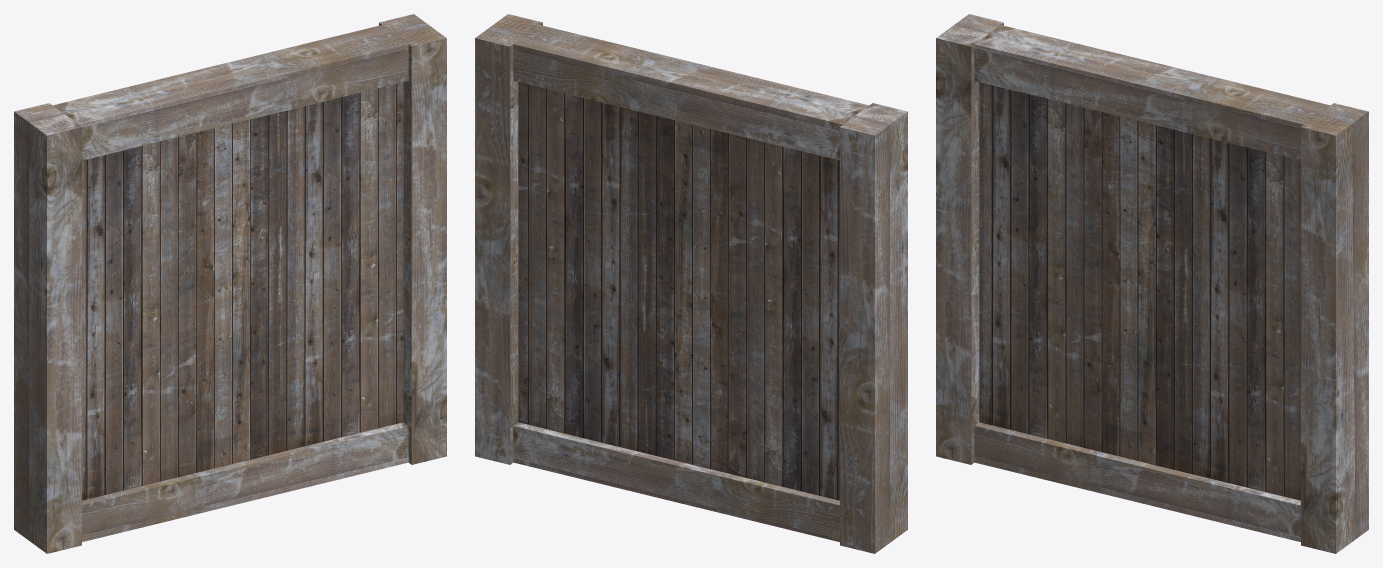
File: wall.FBX
The picture shows the model from 3 angles, left to right: view 1: azimuth 30°, elevation 25°; view 2: azimuth 150°, elevation 25°; view 3: azimuth 330°, elevation 25°; orthographic projection.
Parts seen in each view (by area): view 1: Box006; view 2: Box006; view 3: Box006.
Boxes of the visible parts, bbox=[...] form: Box006: bbox=[14, 14, 446, 553]; Box006: bbox=[475, 14, 907, 553]; Box006: bbox=[936, 14, 1368, 553].
Bounding box in the file's own units: 139 × 139 × 19.88.
1 material, 1 textured.
